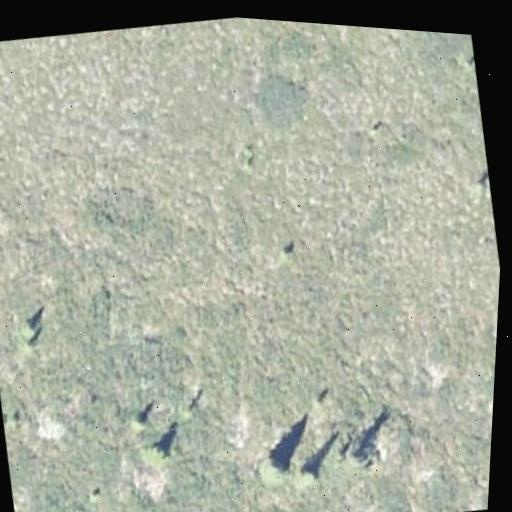tree-top: (342, 434, 378, 476), (255, 450, 293, 488), (144, 436, 170, 463), (297, 461, 319, 486), (21, 313, 43, 336), (130, 412, 151, 435), (471, 171, 489, 194)
